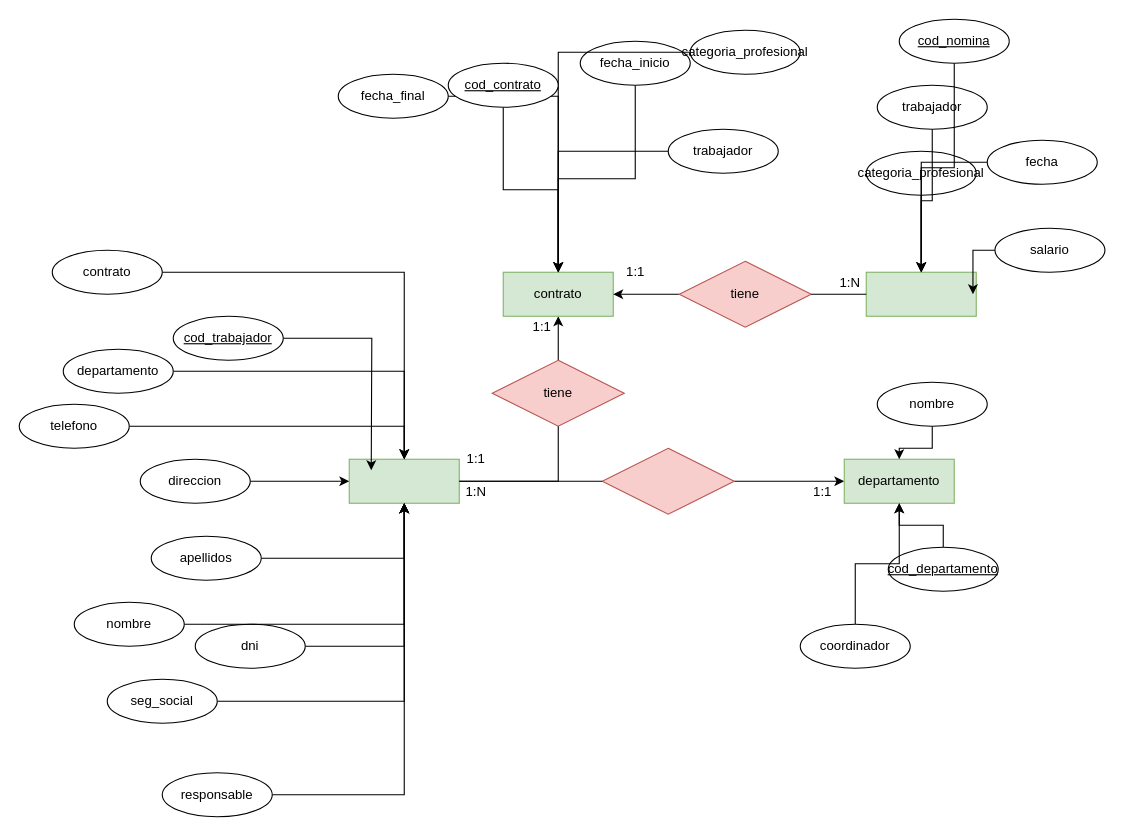
Image size: 1124x836. Some labels were removed from this diagram. The shapes that lost their labels are listed below. From the top down, each one's centre as x and y in pixels, then its label:
the point at 920,293: nomina
the point at 403,480: empleado
the point at 667,480: pertenece
